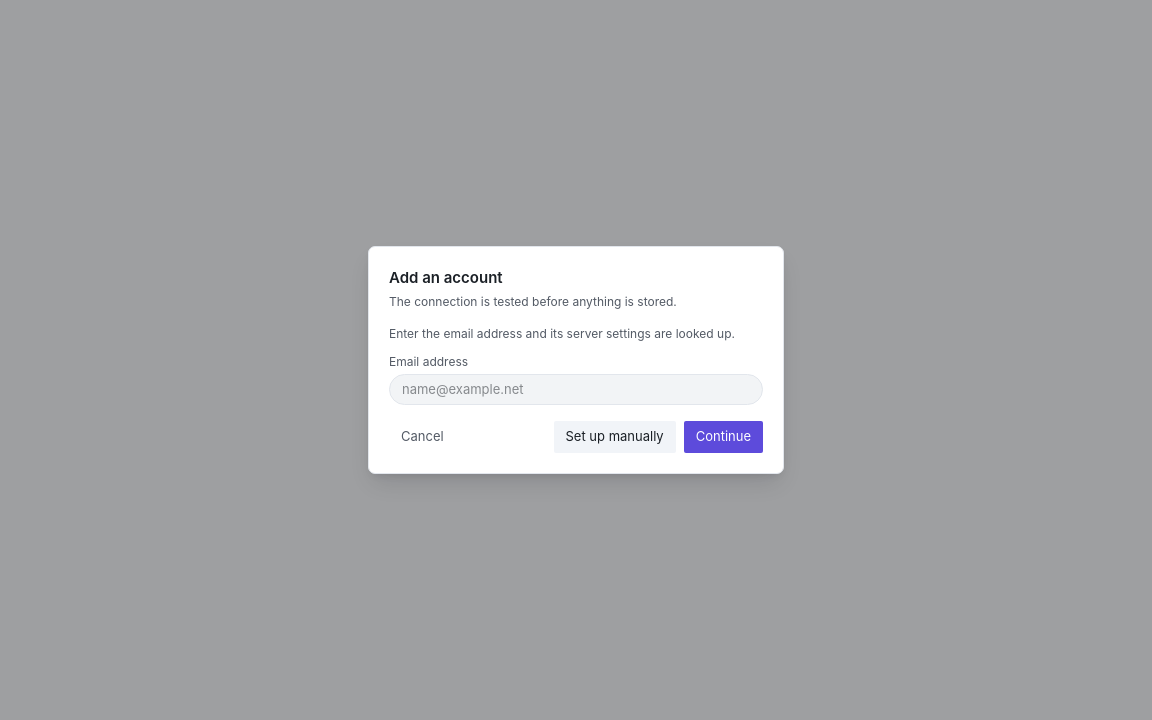
Test case: a begun sign-in › surfaces a begin that failed back on the buttons
Type "work@example.test" into the field labelled "Email address" at (576, 389), box [389,374,763,405]
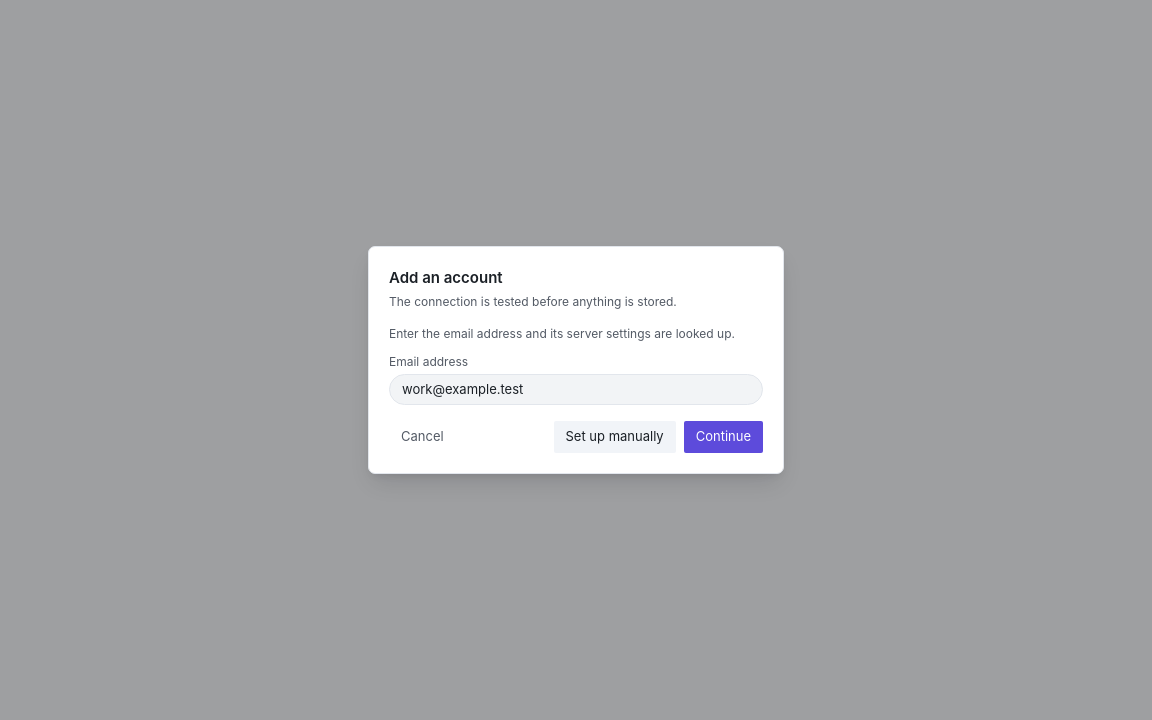
Click the button "Set up manually" at (615, 437), box [554,421,676,453]
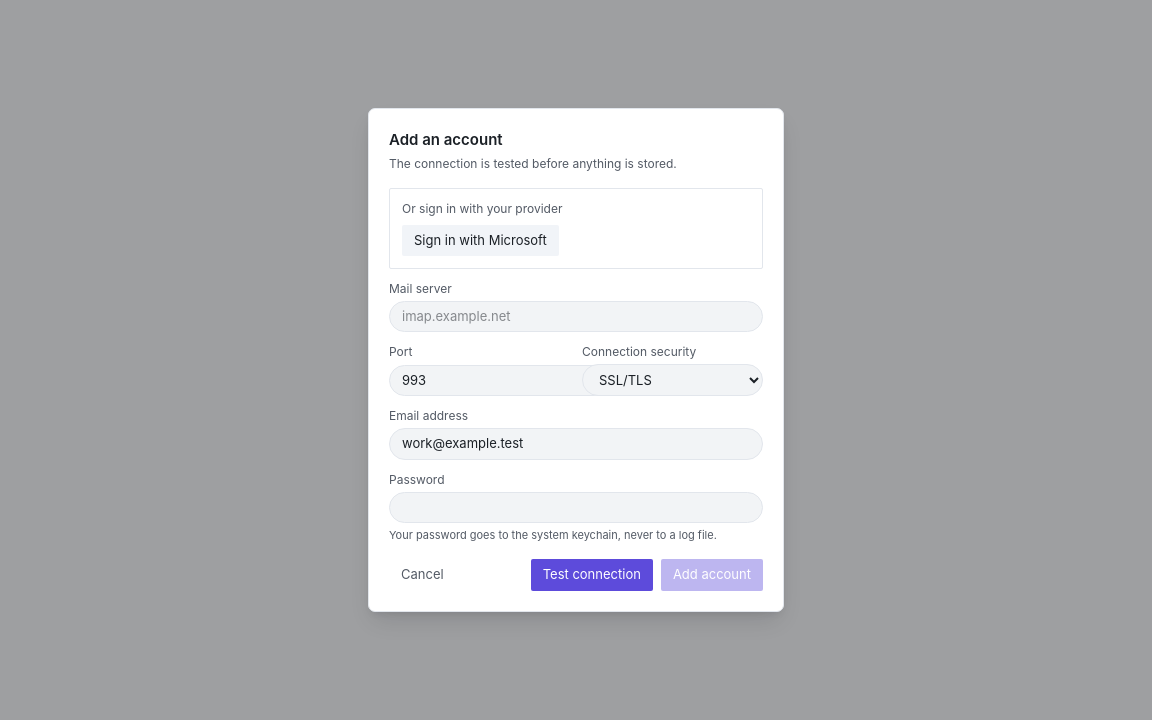
Expected: the field labelled "Mail server" is shown, [389,301,763,332]
Click the button "Sign in with Microsoft" at (480, 240), box [402,224,559,256]
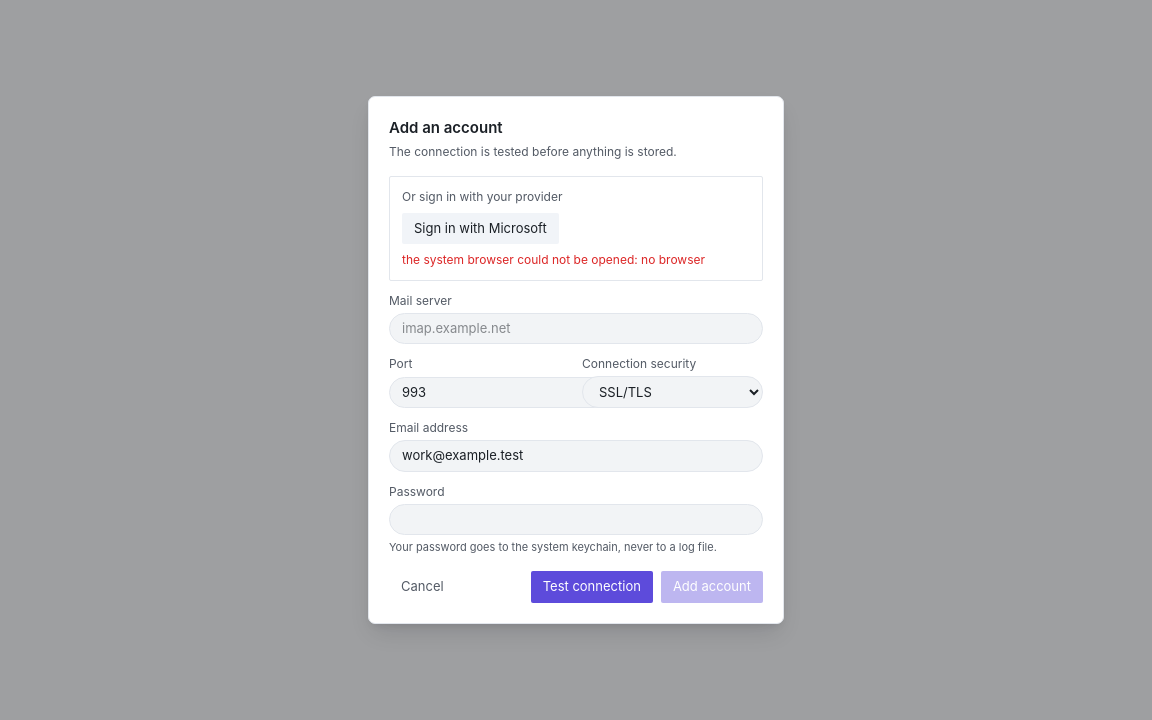
Result: the button "Sign in with Microsoft" is shown at [402,212,559,244]
Result: the text "the system browser could not be opened: no browser" is shown at [402,252,750,268]
